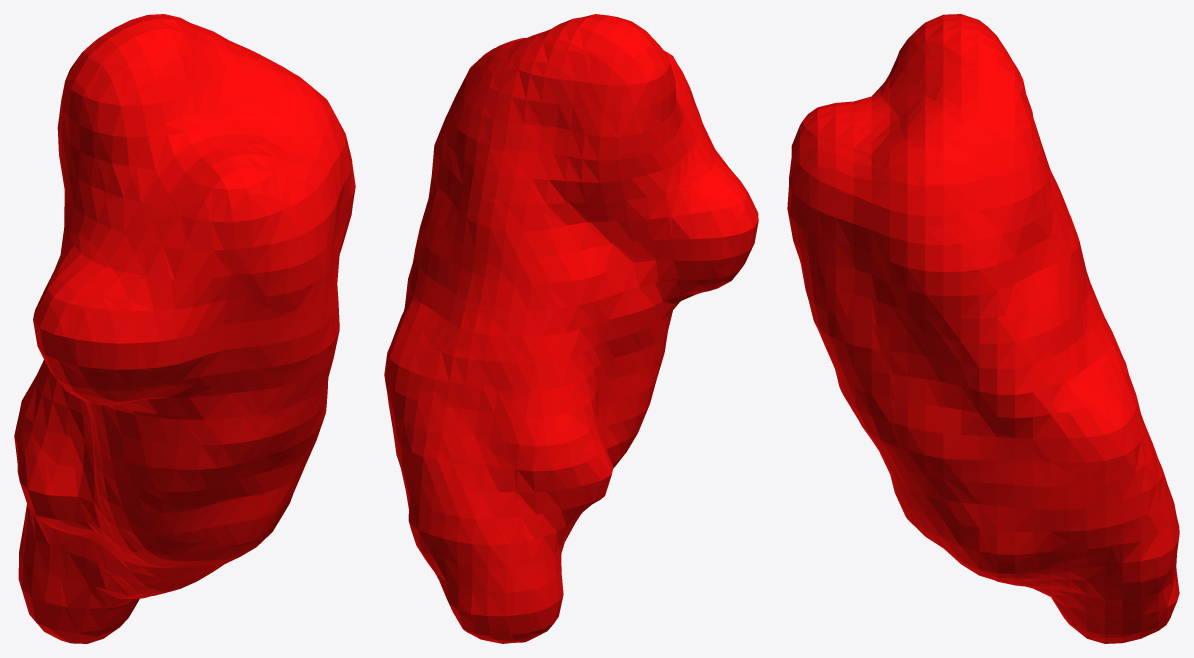
Rendered from yciE_coarse.dae.
3 views of the same model, side by side, from view 1: azimuth 30°, elevation 25°; view 2: azimuth 150°, elevation 25°; view 3: azimuth 270°, elevation 25° (orthographic). The views are drawn at different scales.
Parts seen in each view (by area): view 1: yciE; view 2: yciE; view 3: yciE.
Part boxes in pixels (left/top/right/bottom): yciE: left=14, top=14, right=355, bottom=643; yciE: left=384, top=14, right=758, bottom=643; yciE: left=787, top=14, right=1179, bottom=643.
Size of the model in its own units: 34.47 by 66.54 by 38.87.
